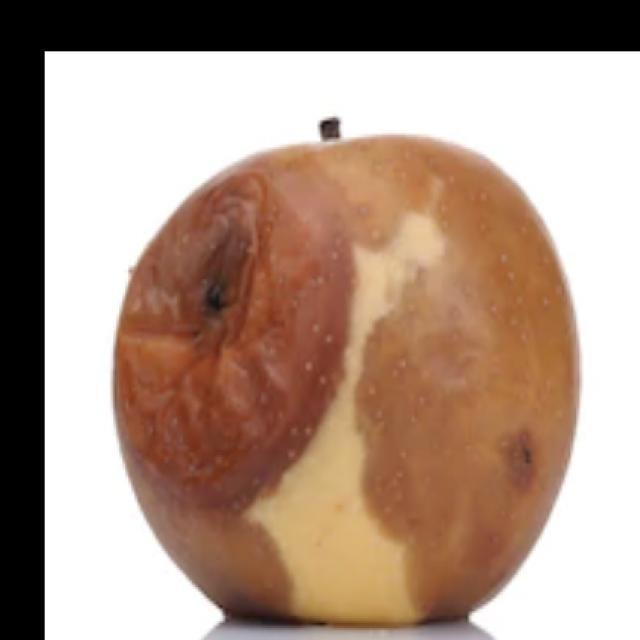Rotten: (108, 120, 577, 640)
